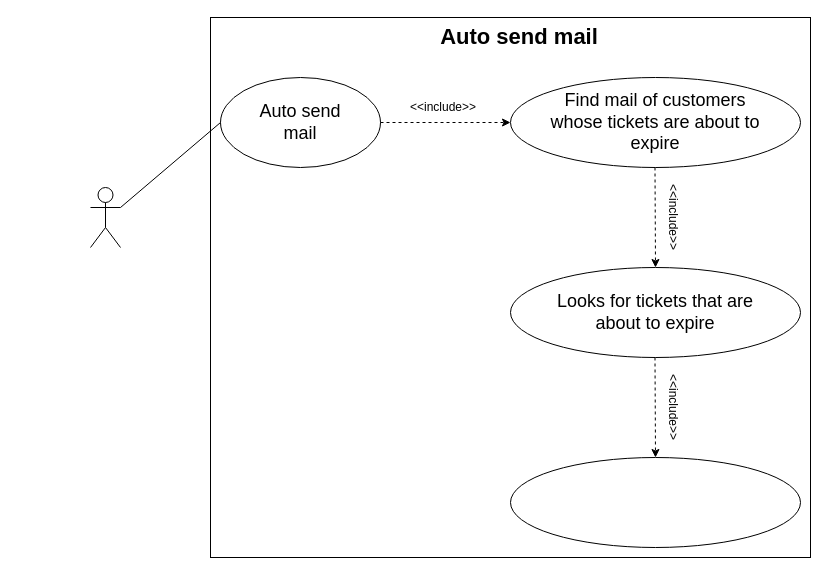
This 828x575 diagram has some shape labels left out. The shapes that lost their labels are listed below. From the top down, each one's box as (x1, y1, x2, y2) in pixels, then its label:
(90, 186, 120, 248): AutoSendMail System
(510, 456, 800, 548): Connect Database
